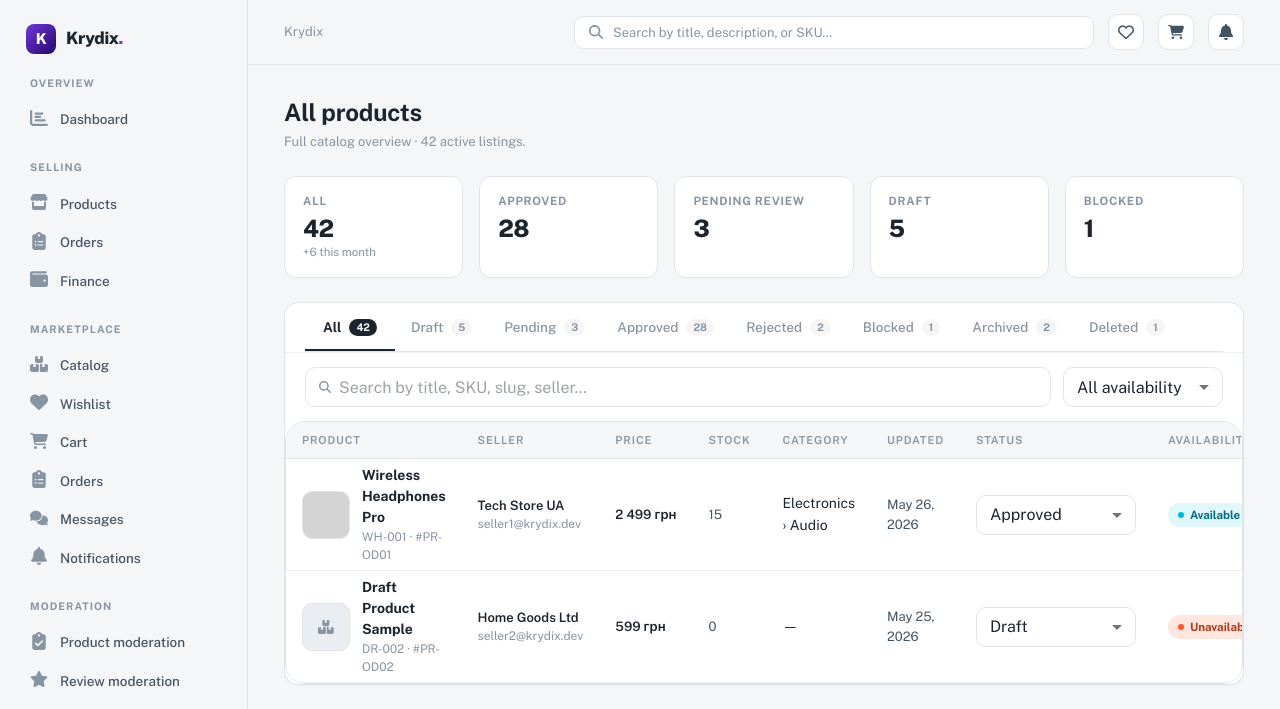
Test: ProductsManagementPage — Admin › changes product status via dropdown
Click the dropdown labelled "Approved" at (1026, 515), box 990,505 -> 1062,524
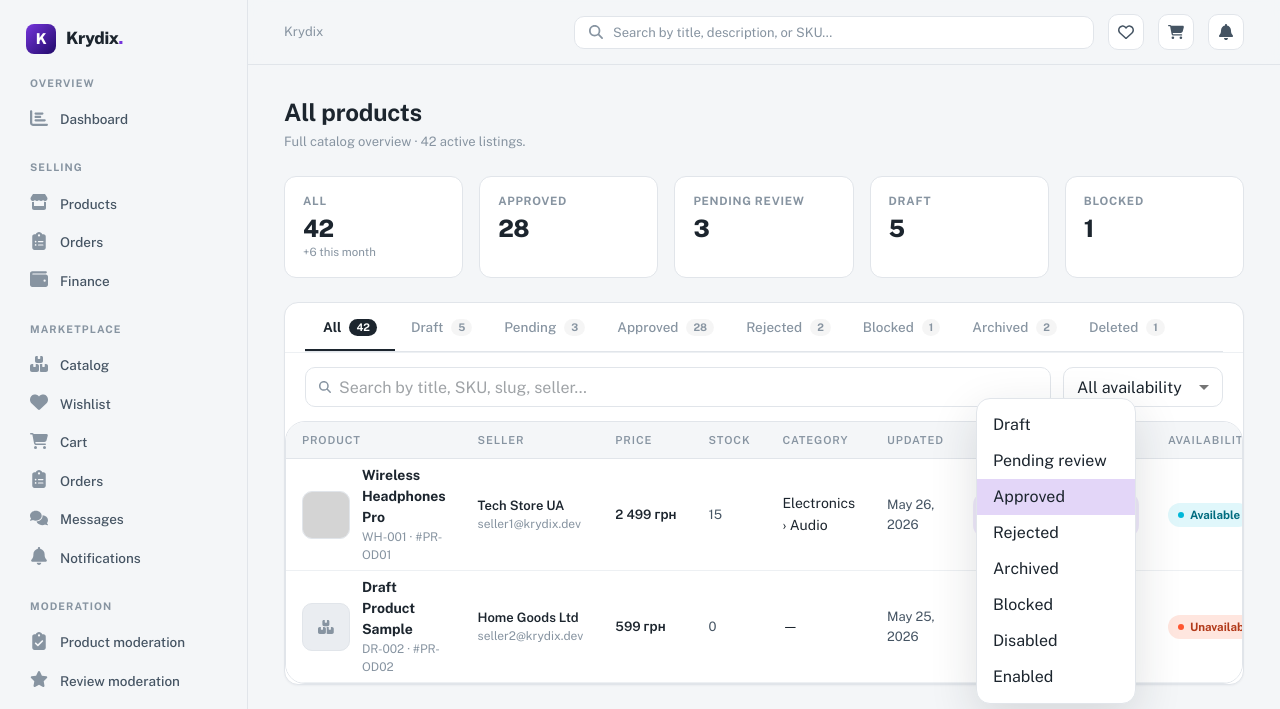
Click the option "Blocked" at (1023, 605), box 993,595 -> 1053,614
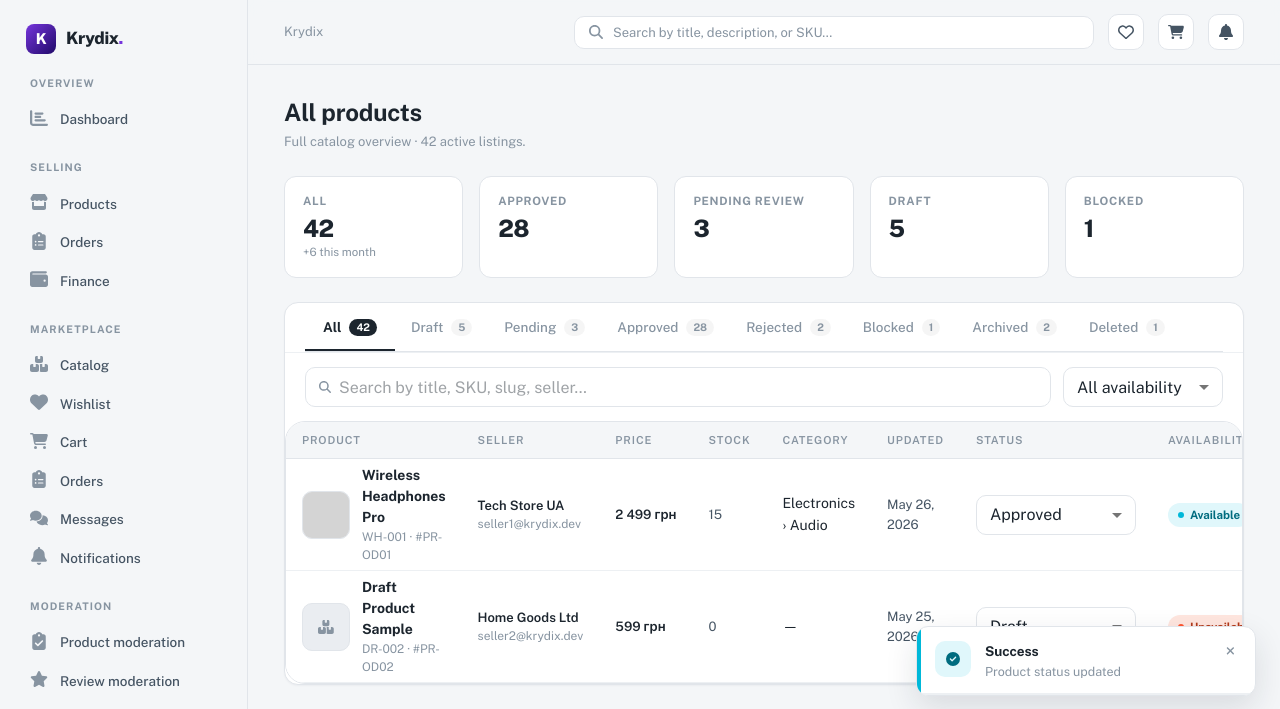
Expected: the text "Product status updated" is shown, 985,664 -> 1121,679
